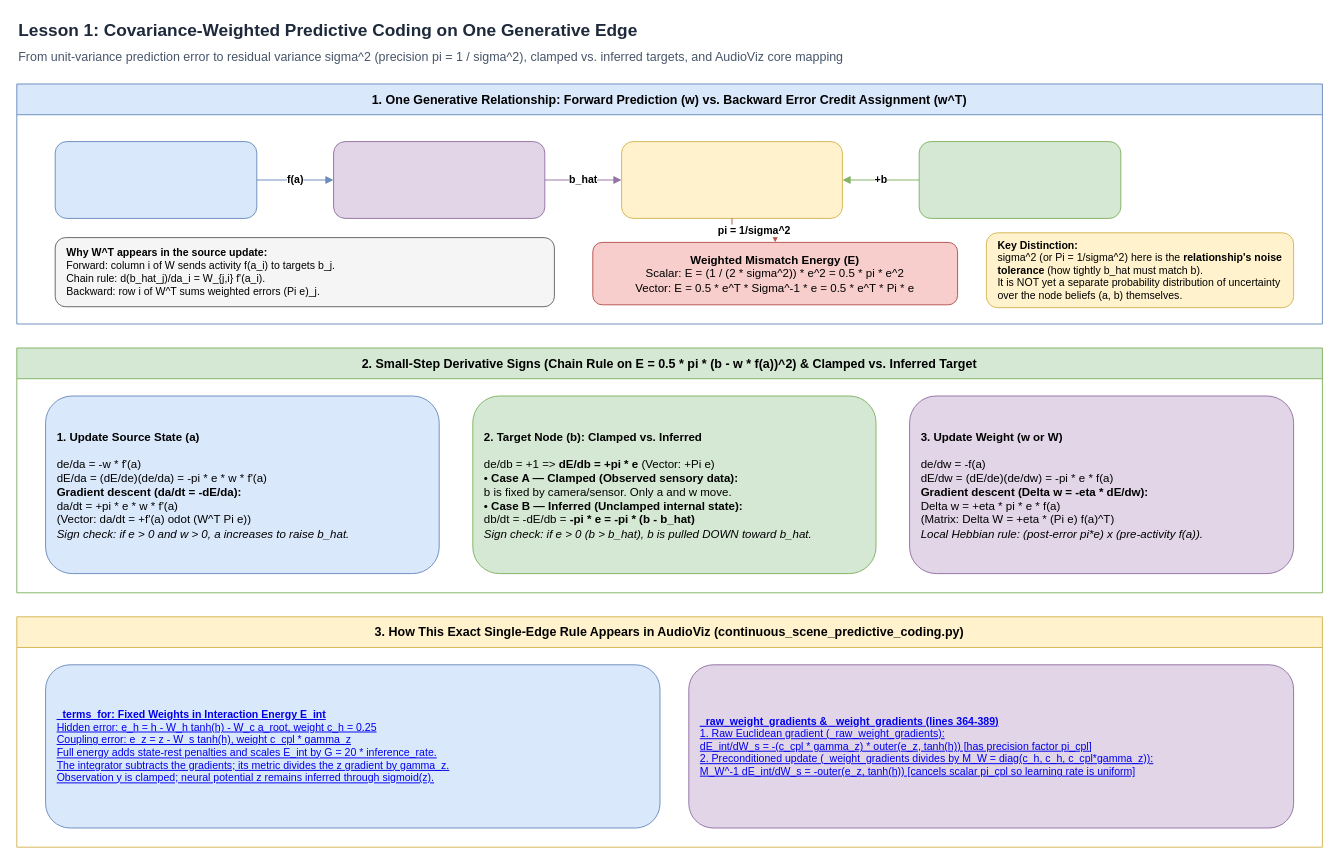
This 1339x864 diagram has some shape labels left out. The box of each missing label's shape, as (x1, y1, x2, y2) in pixels:
Prediction Error (e) e = b - b_hat = b - w * f(a) ("Target minus Prediction"): (621, 141, 842, 218)
Source State (a) Activity: f(a) = tanh(a) Slope: f'(a) = 1 - tanh(a)^2: (54, 141, 257, 218)
Target Node (b) Either Clamped (observed data) or Inferred (free internal state): (918, 141, 1121, 218)
Weight (w or W) Prediction: b_hat = w * f(a) (Vector: b_hat = W f(a)): (333, 141, 545, 218)
